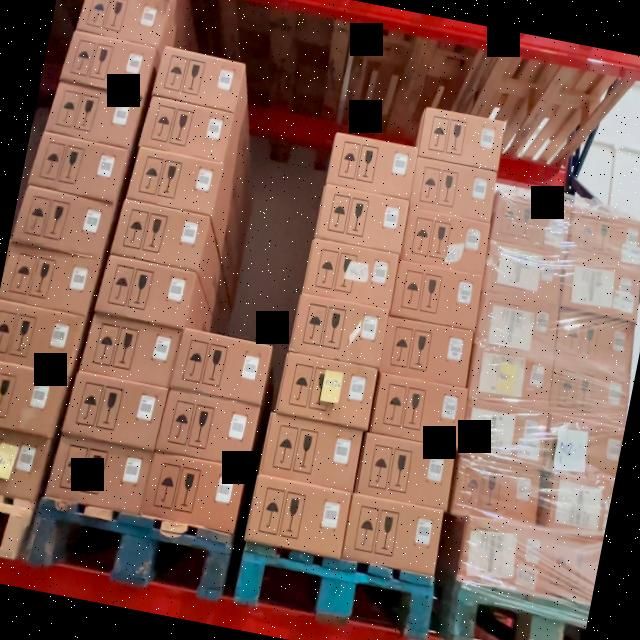box: (260, 414, 363, 490), (249, 476, 351, 552), (343, 497, 445, 572), (277, 355, 377, 427), (173, 332, 271, 402), (147, 456, 244, 526), (302, 240, 398, 310), (357, 437, 454, 506), (292, 299, 388, 367), (160, 394, 257, 461), (99, 258, 190, 328), (392, 261, 482, 331), (70, 378, 164, 444), (54, 442, 150, 506), (374, 376, 466, 441), (84, 318, 177, 382), (327, 135, 418, 199), (380, 324, 471, 387), (140, 100, 231, 163), (317, 188, 408, 250), (154, 50, 242, 114), (114, 205, 204, 266), (419, 105, 506, 168), (132, 158, 218, 218), (411, 160, 497, 218), (404, 210, 488, 269), (180, 22, 186, 34)
